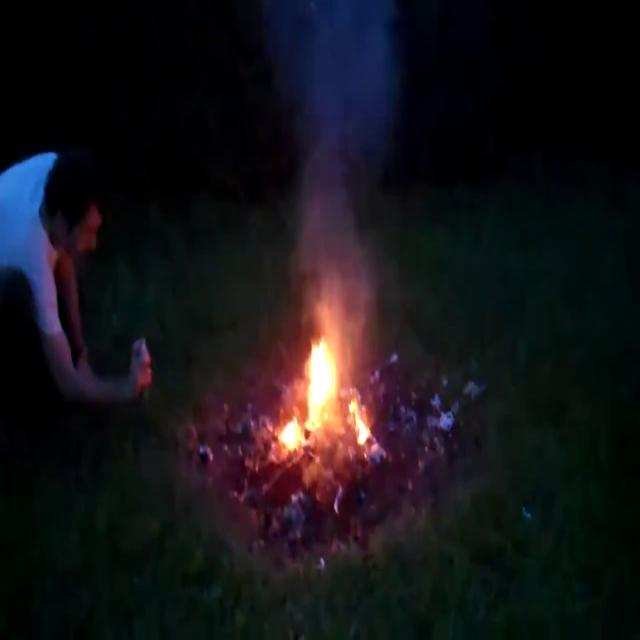Fire: (274, 321, 374, 458)
Smoke: (264, 1, 406, 327)
